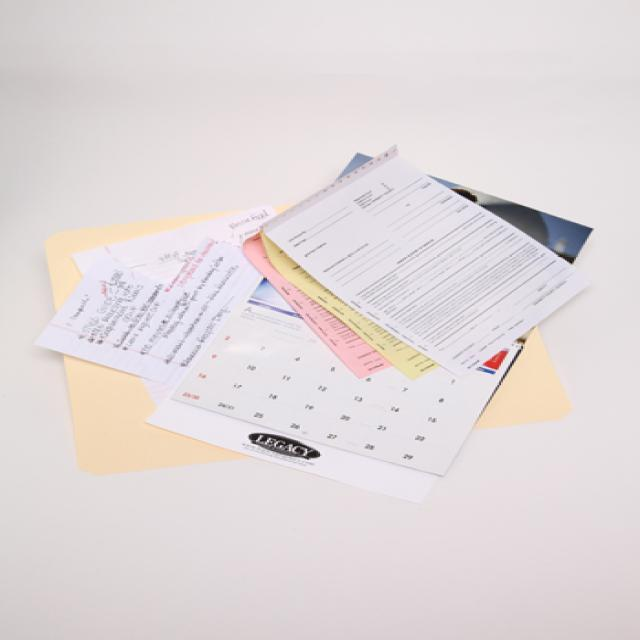paper: (55, 149, 603, 492)
